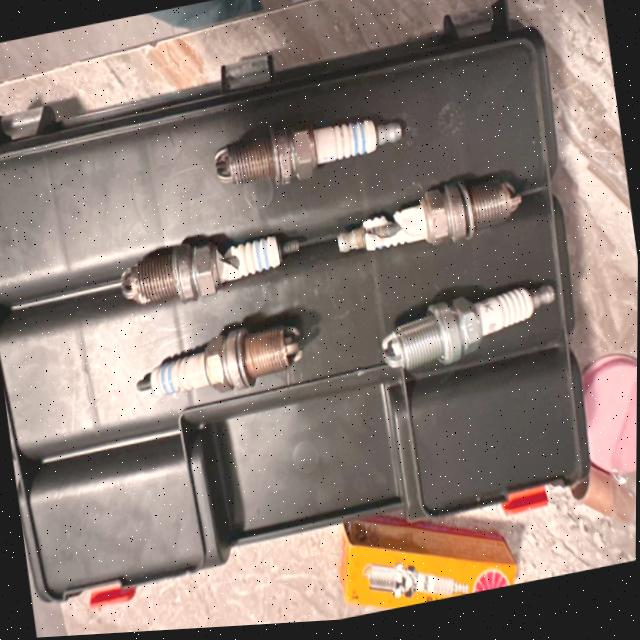damaged_spark-plug: (122, 223, 305, 321), (334, 178, 524, 263)
spark-plug: (204, 111, 411, 195), (378, 283, 561, 378), (135, 324, 305, 404)
